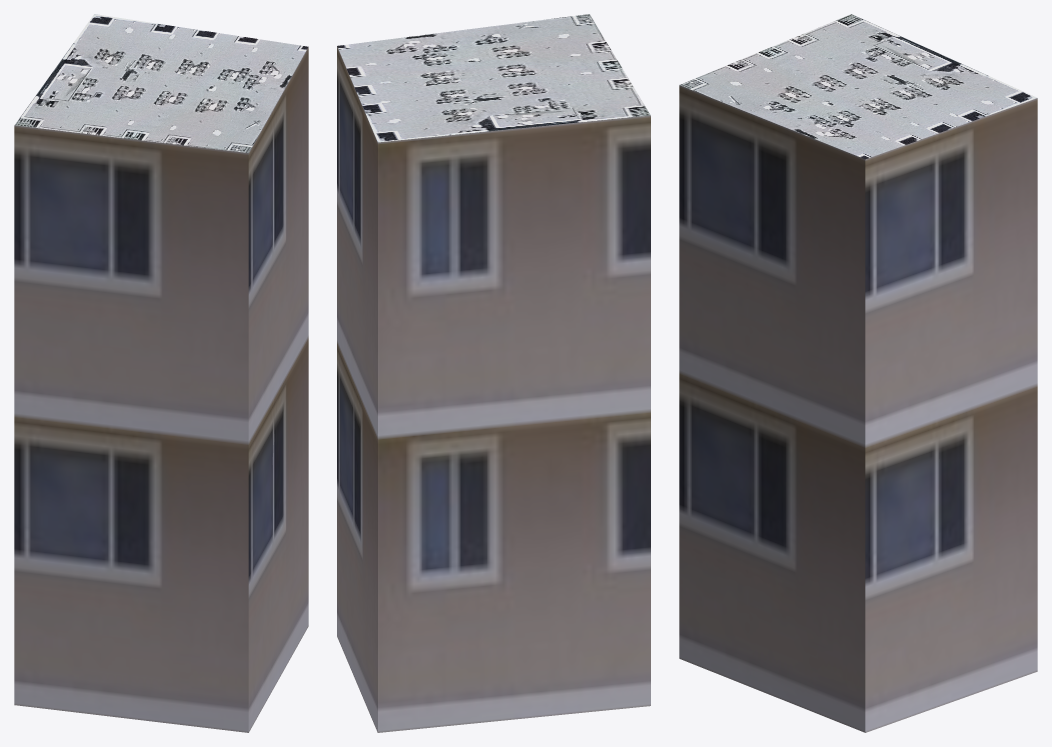
File: ResTex__1778.fbx
3 renders of one model, left to right at view 1: azimuth 30°, elevation 25°; view 2: azimuth 150°, elevation 25°; view 3: azimuth 270°, elevation 25°, orthographic. The views are drawn at different scales.
Parts seen in each view (by area): view 1: CityEngineMaterial_21_m, CityEngineMaterial_4_m; view 2: CityEngineMaterial_21_m, CityEngineMaterial_4_m; view 3: CityEngineMaterial_21_m, CityEngineMaterial_4_m.
Part boxes in pixels (box(x1,y1,x2,y2)): CityEngineMaterial_21_m: box(14, 47, 308, 732); CityEngineMaterial_4_m: box(15, 14, 308, 152); CityEngineMaterial_21_m: box(337, 46, 650, 732); CityEngineMaterial_4_m: box(337, 14, 650, 142); CityEngineMaterial_21_m: box(679, 85, 1037, 732); CityEngineMaterial_4_m: box(679, 14, 1036, 159).
Size of the model in its own units: 3.26 by 6 by 3.4.
2 materials, 2 textured.
